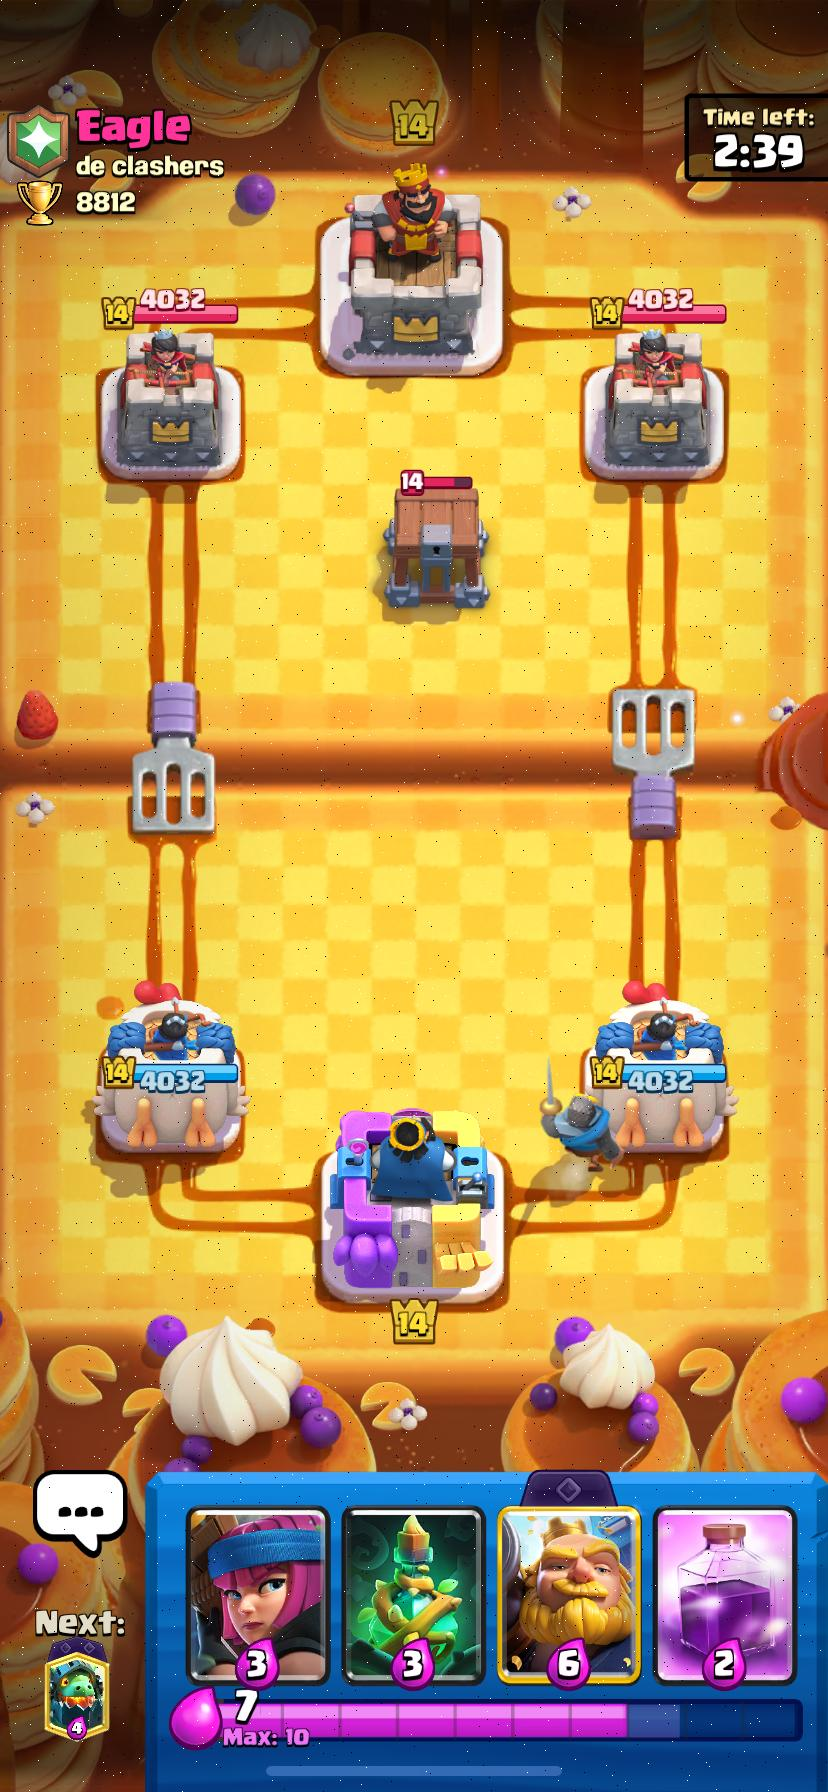EGoblinCage: (384, 471, 488, 607)
EKingTower: (337, 165, 502, 374)
EnemyPrincessTower: (101, 328, 241, 480), (586, 329, 724, 480)
OKnight: (541, 1094, 619, 1173)
OwnKingTower: (323, 1109, 503, 1302)
OwnPrincessTower: (93, 986, 248, 1152), (584, 987, 737, 1153)
